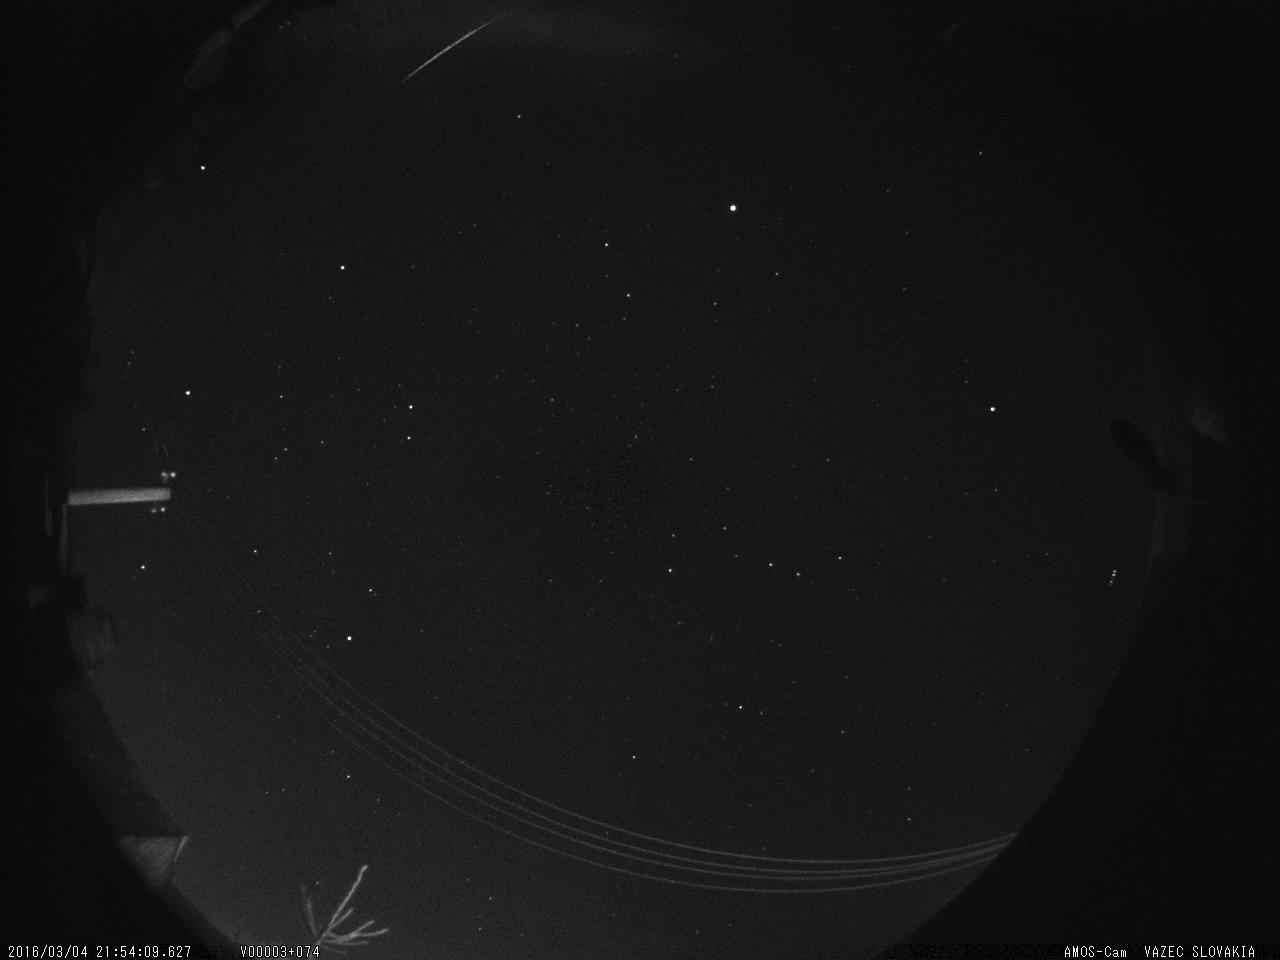meteor: (393, 0, 534, 91)
